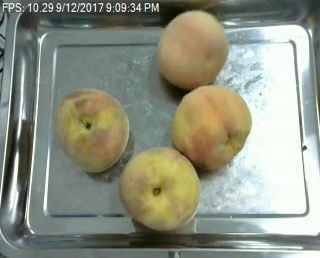Peach: (119, 145, 201, 231), (172, 84, 252, 171), (54, 88, 130, 173), (157, 9, 229, 88)
